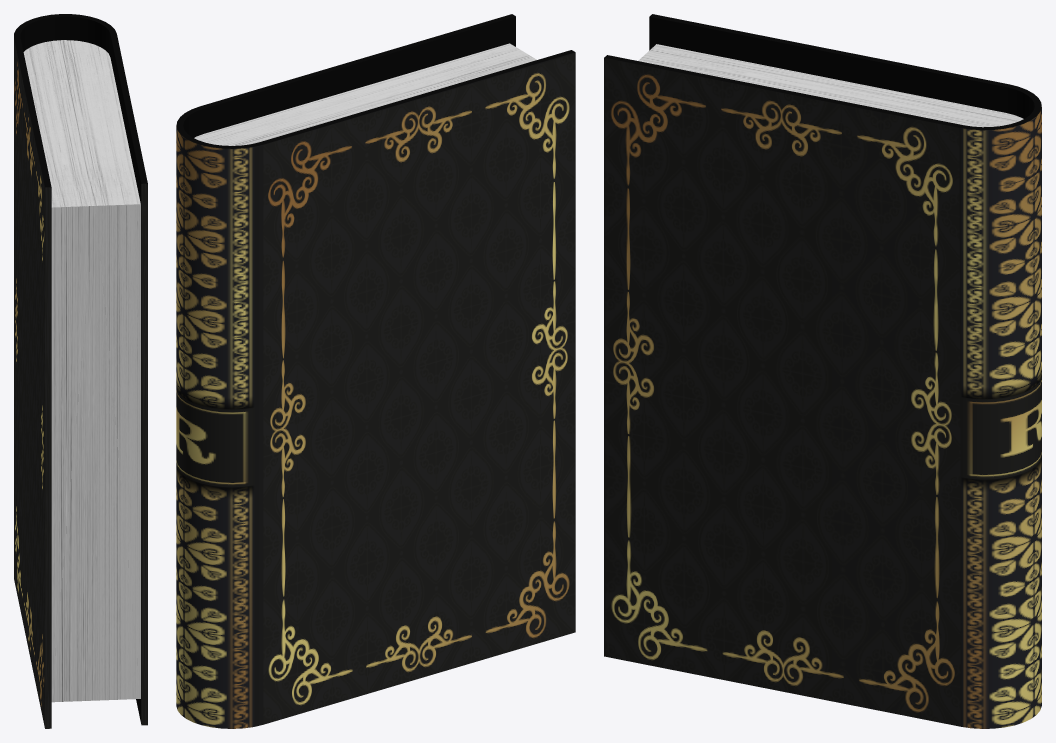
Rendered from book.fbx.
The picture shows the model from 3 angles, left to right: view 1: azimuth 30°, elevation 25°; view 2: azimuth 150°, elevation 25°; view 3: azimuth 270°, elevation 25°; orthographic projection. The views are drawn at different scales.
Parts seen in each view (by area): view 1: Cylinder; view 2: Cylinder; view 3: Cylinder.
Boxes of the visible parts, x1,y1,x2,y2 form: Cylinder: (14,14,147,728); Cylinder: (176,14,575,728); Cylinder: (604,14,1041,728).
Size of the model in its own units: 79.02 by 190 by 126.
3 materials, 2 textured.
